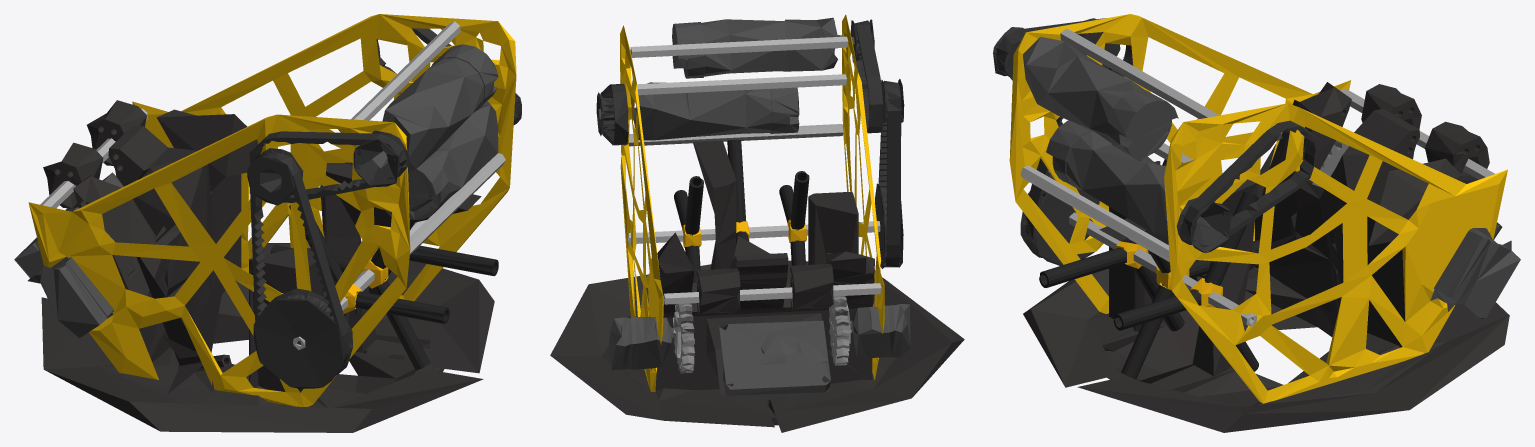
File: turret.glb
3 renders of one model, left to right at view 1: azimuth 30°, elevation 25°; view 2: azimuth 150°, elevation 25°; view 3: azimuth 270°, elevation 25°, orthographic. The views are drawn at different scales.
Visible parts, largest first — view 1: turret_1, turret_7, turret_0, turret_8, turret_5, turret_3, turret_4, turret_2; view 2: turret_1, turret_0, turret_7, turret_4, turret_5, turret_3, turret_8, turret_9, turret_2, turret_6; view 3: turret_1, turret_7, turret_0, turret_4, turret_3, turret_5, turret_8, turret_2, turret_9.
Boxes of the visible parts, left/top/right/bottom form: turret_1: left=28, top=100, right=494, bottom=432; turret_7: left=28, top=14, right=516, bottom=406; turret_0: left=14, top=44, right=498, bottom=337; turret_8: left=247, top=93, right=521, bottom=388; turret_5: left=249, top=28, right=518, bottom=364; turret_3: left=270, top=162, right=498, bottom=369; turret_4: left=40, top=21, right=505, bottom=349; turret_2: left=343, top=256, right=388, bottom=313; turret_1: left=550, top=140, right=964, bottom=432; turret_0: left=598, top=17, right=910, bottom=395; turret_7: left=620, top=14, right=884, bottom=391; turret_4: left=627, top=36, right=881, bottom=304; turret_5: left=600, top=20, right=901, bottom=267; turret_3: left=674, top=139, right=809, bottom=282; turret_8: left=596, top=19, right=904, bottom=268; turret_9: left=675, top=296, right=849, bottom=373; turret_2: left=682, top=219, right=806, bottom=247; turret_6: left=673, top=302, right=851, bottom=357; turret_1: left=1023, top=82, right=1509, bottom=432; turret_7: left=1009, top=14, right=1507, bottom=403; turret_0: left=1022, top=36, right=1520, bottom=318; turret_4: left=1020, top=29, right=1494, bottom=326; turret_3: left=1039, top=159, right=1259, bottom=378; turret_5: left=996, top=18, right=1322, bottom=255; turret_8: left=993, top=18, right=1231, bottom=265; turret_2: left=1116, top=241, right=1222, bottom=307; turret_9: left=1312, top=140, right=1348, bottom=187.
Size of the model in its own units: 10.87 by 8.24 by 11.62.
